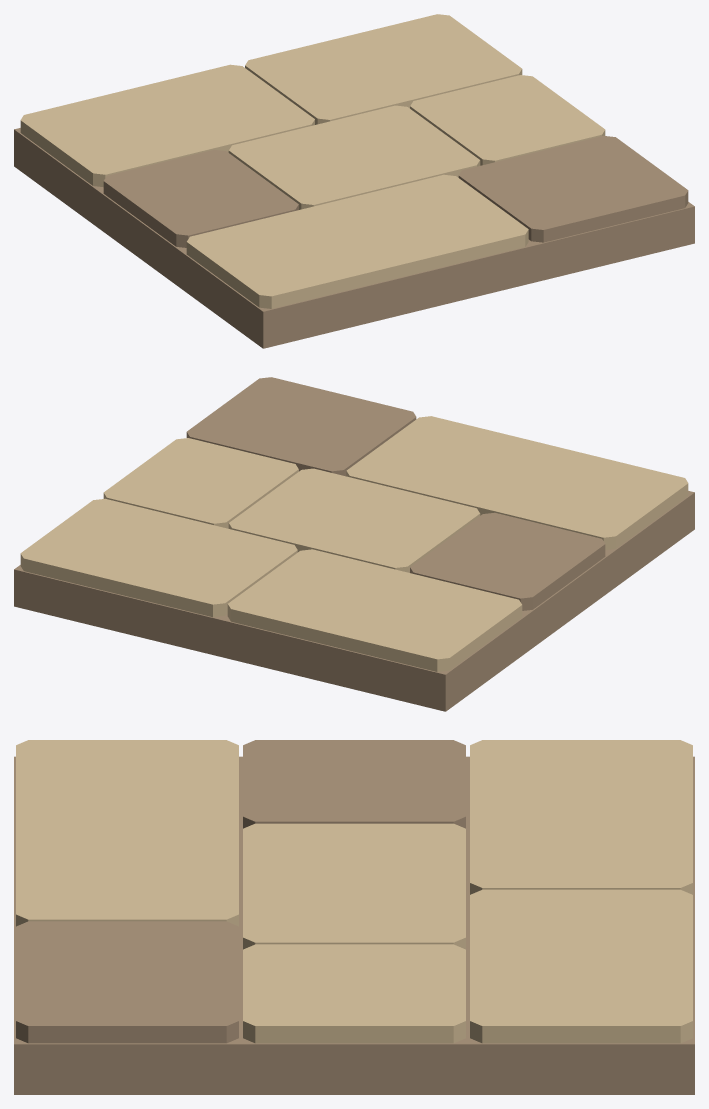
Rendered from coursed_flagstones.glb.
The picture shows the model from 3 angles, top to bottom: view 1: azimuth 30°, elevation 25°; view 2: azimuth 150°, elevation 25°; view 3: azimuth 270°, elevation 25°; orthographic projection. The views are drawn at different scales.
Parts seen in each view (by area): view 1: Coursed flagstones; view 2: Coursed flagstones; view 3: Coursed flagstones.
Part boxes in pixels (x1,y1,x2,y2): Coursed flagstones: (14, 14, 694, 348); Coursed flagstones: (14, 377, 694, 711); Coursed flagstones: (14, 740, 694, 1094).
Size of the model in its own units: 1 by 0.11 by 1.
